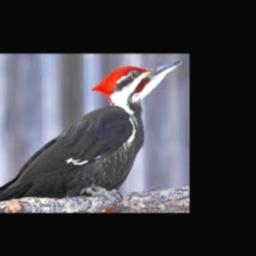Woodpecker: (0, 60, 183, 205)
